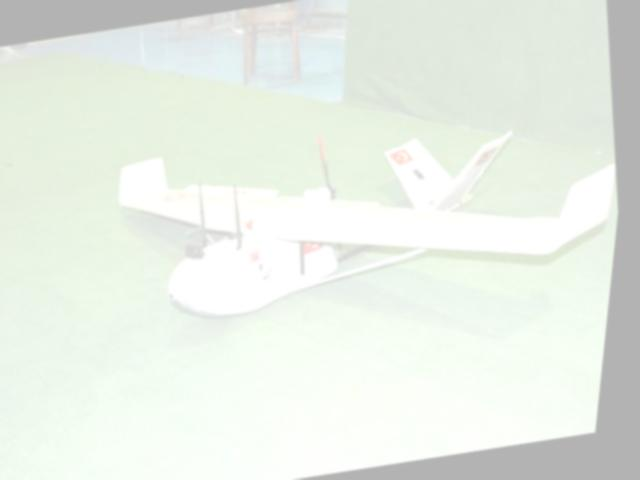iha: (81, 81, 633, 351)
